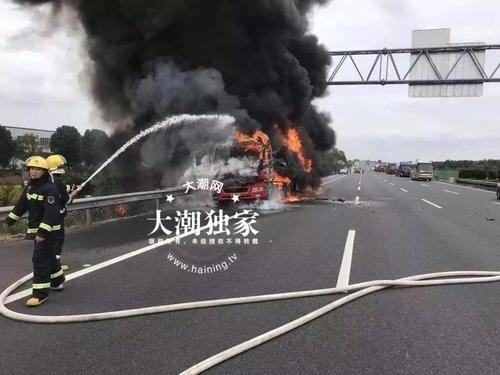fire: (231, 124, 320, 205)
